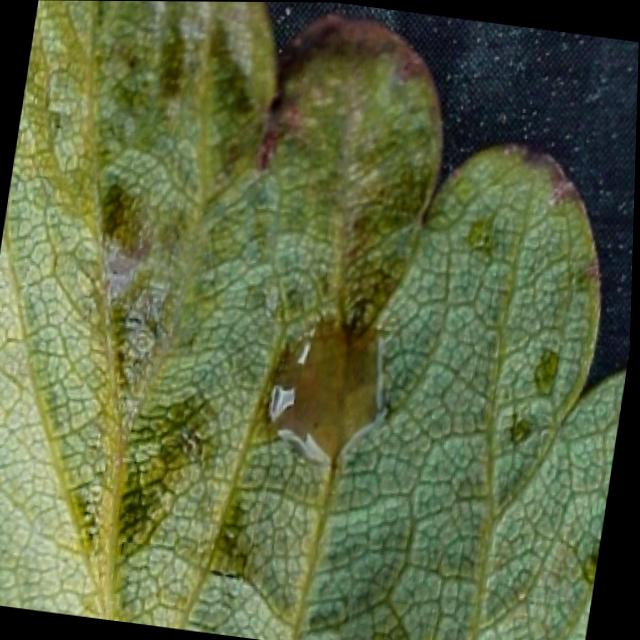Angular Leafspot: (7, 0, 629, 640)
